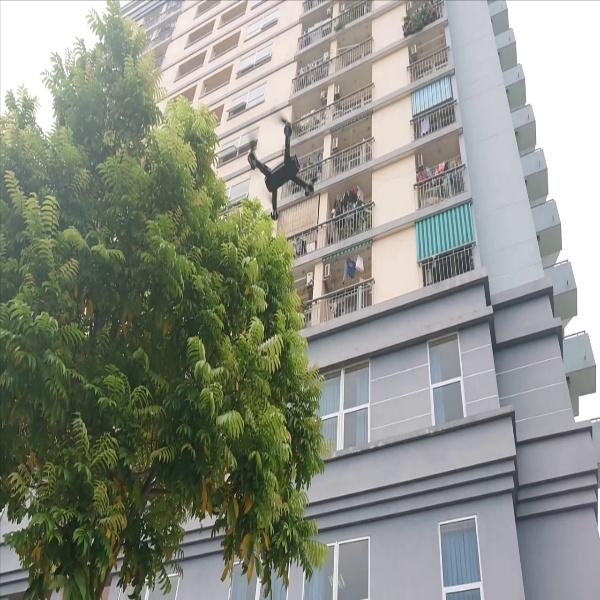drone: (232, 117, 329, 221)
